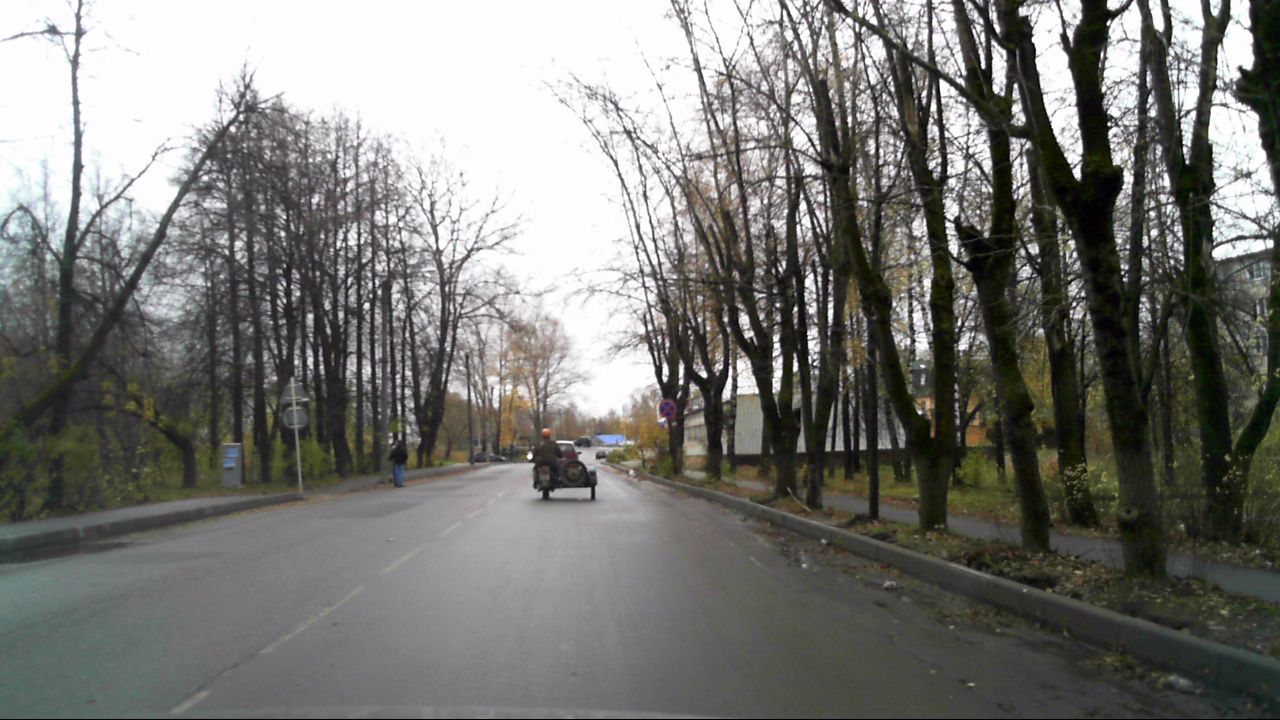No Parking: (657, 396, 678, 418)
